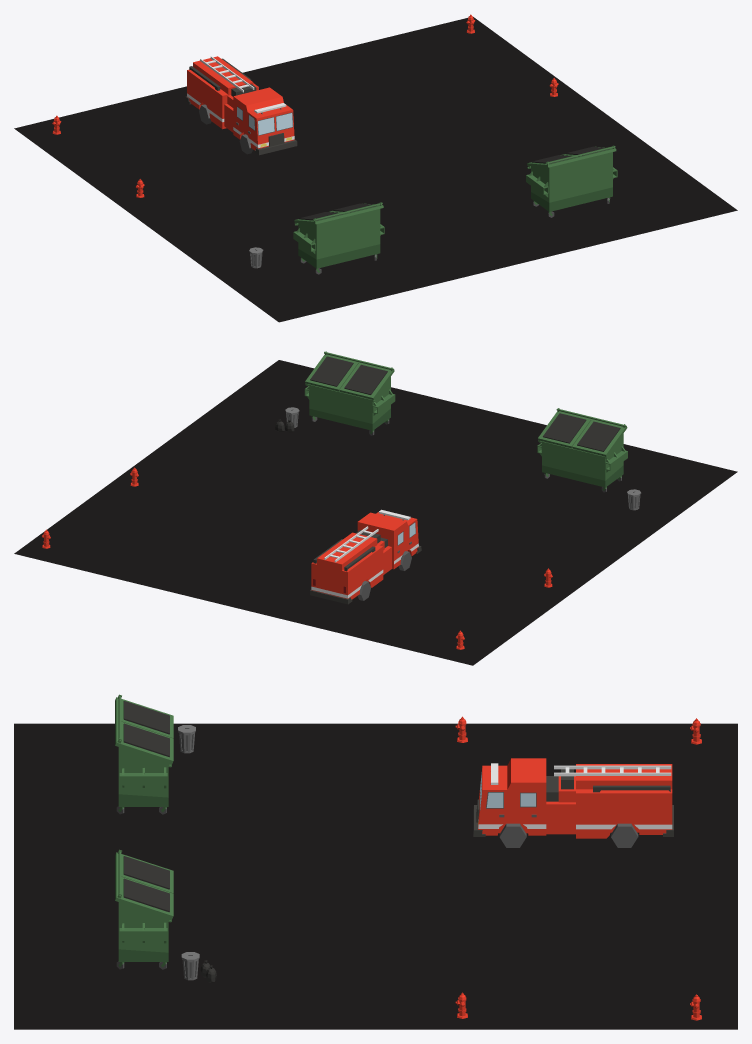
File: Tile 11_Combined_2.fbx
3 views of the same model, one above another, from view 1: azimuth 30°, elevation 25°; view 2: azimuth 150°, elevation 25°; view 3: azimuth 270°, elevation 25° (orthographic). The views are drawn at different scales.
Parts seen in each view (by area): view 1: MeshBaker_mesh_mesh; view 2: MeshBaker_mesh_mesh; view 3: MeshBaker_mesh_mesh.
Boxes of the visible parts, left/top/right/bottom form: MeshBaker_mesh_mesh: left=14, top=14, right=737, bottom=322; MeshBaker_mesh_mesh: left=14, top=351, right=737, bottom=665; MeshBaker_mesh_mesh: left=14, top=694, right=737, bottom=1029.
Bounding box in the file's own units: 3000 × 360 × 3000.
